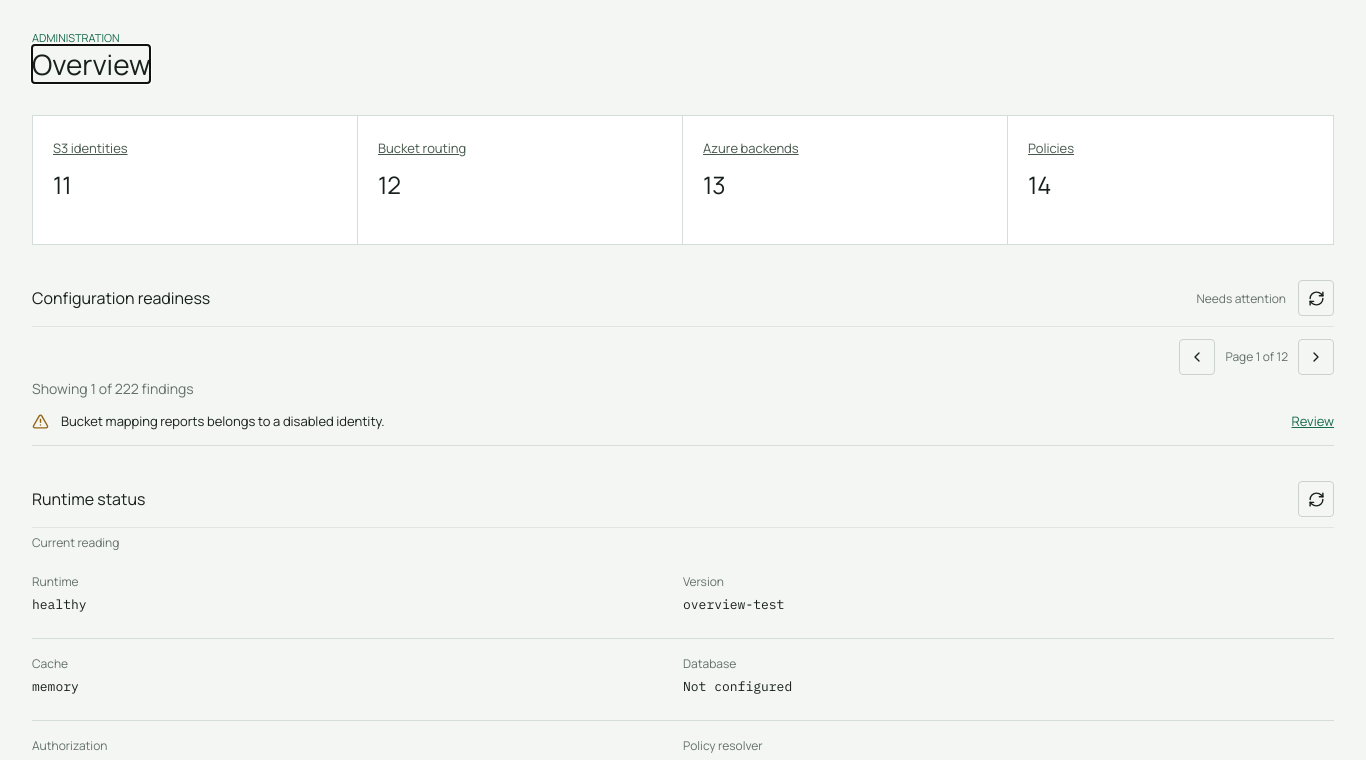
Test case: OverviewPage interactions › pages through every finding with opaque cursors and cached previous pages
Expected: the text "Bucket mapping reports belongs to a disabled identity." is shown, [61,412,384,430]
Expected: the text "Page 1 of 12" is shown, [1226,348,1288,365]
Click the button named "Next configuration findings page".
click(1316, 357)  # box [1298,339,1334,375]
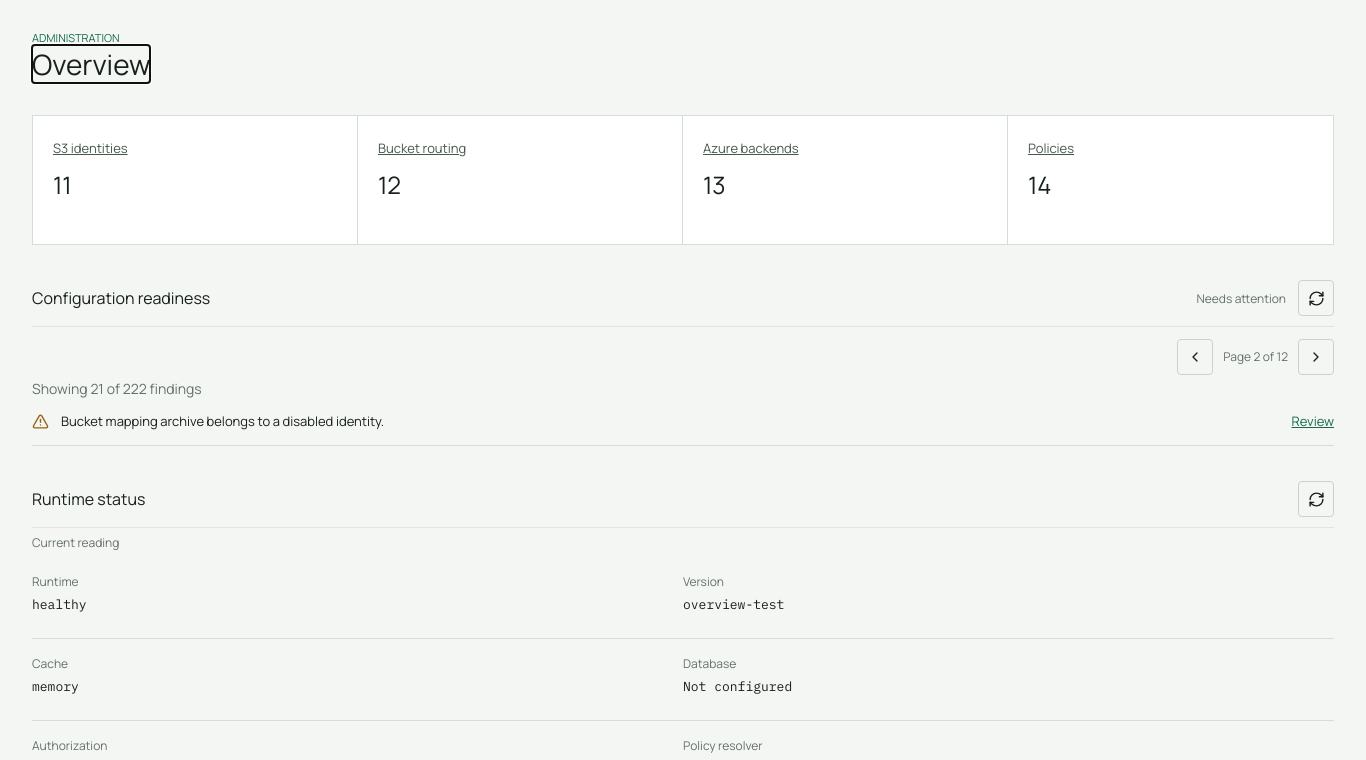
Now the text "Bucket mapping archive belongs to a disabled identity." is shown, box [61,412,384,430]
Now the text "Page 2 of 12" is shown, box [1223,348,1288,365]
Click the button named "Previous configuration findings page".
click(1195, 357)  # box [1177,339,1213,375]
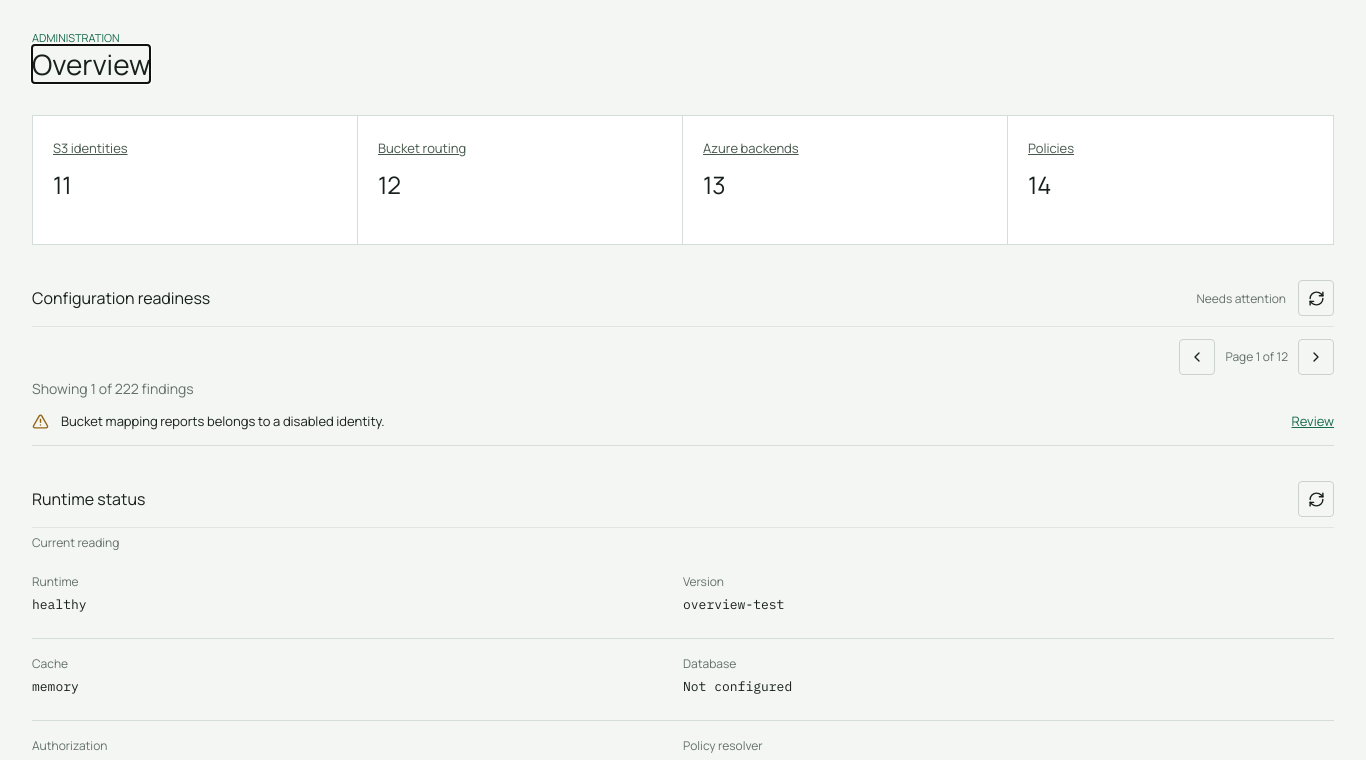
Now the text "Bucket mapping reports belongs to a disabled identity." is shown, box [61,412,384,430]
